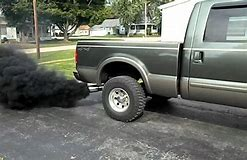smoke: (1, 46, 74, 109)
